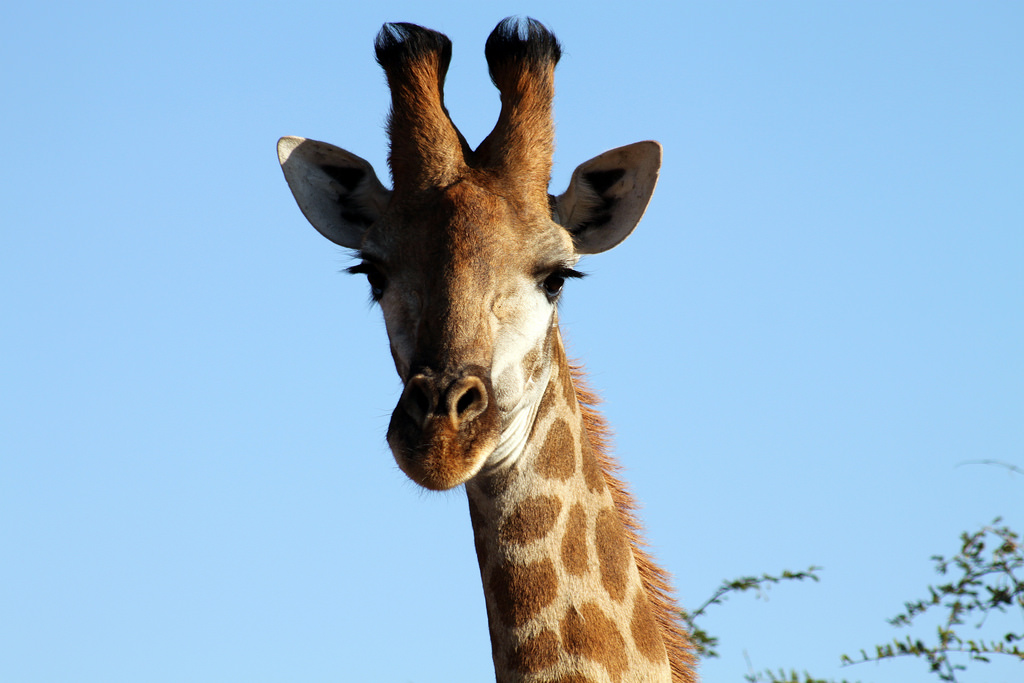giraffe: (255, 17, 740, 682)
